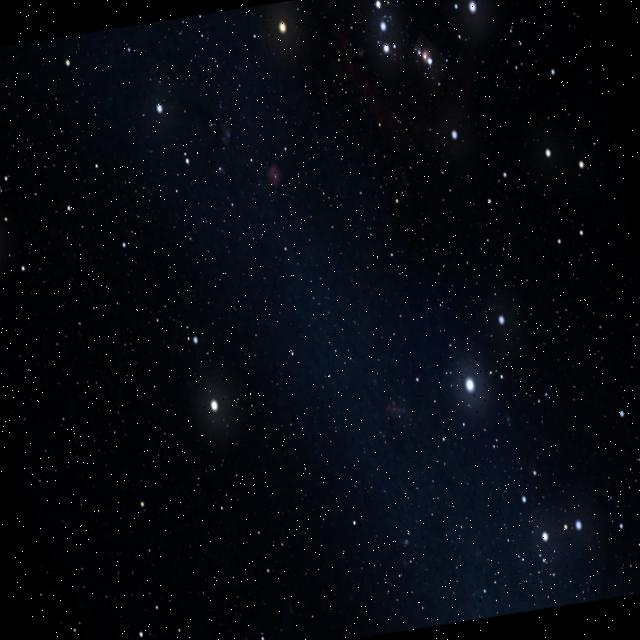Monoceros: (178, 76, 468, 590)
